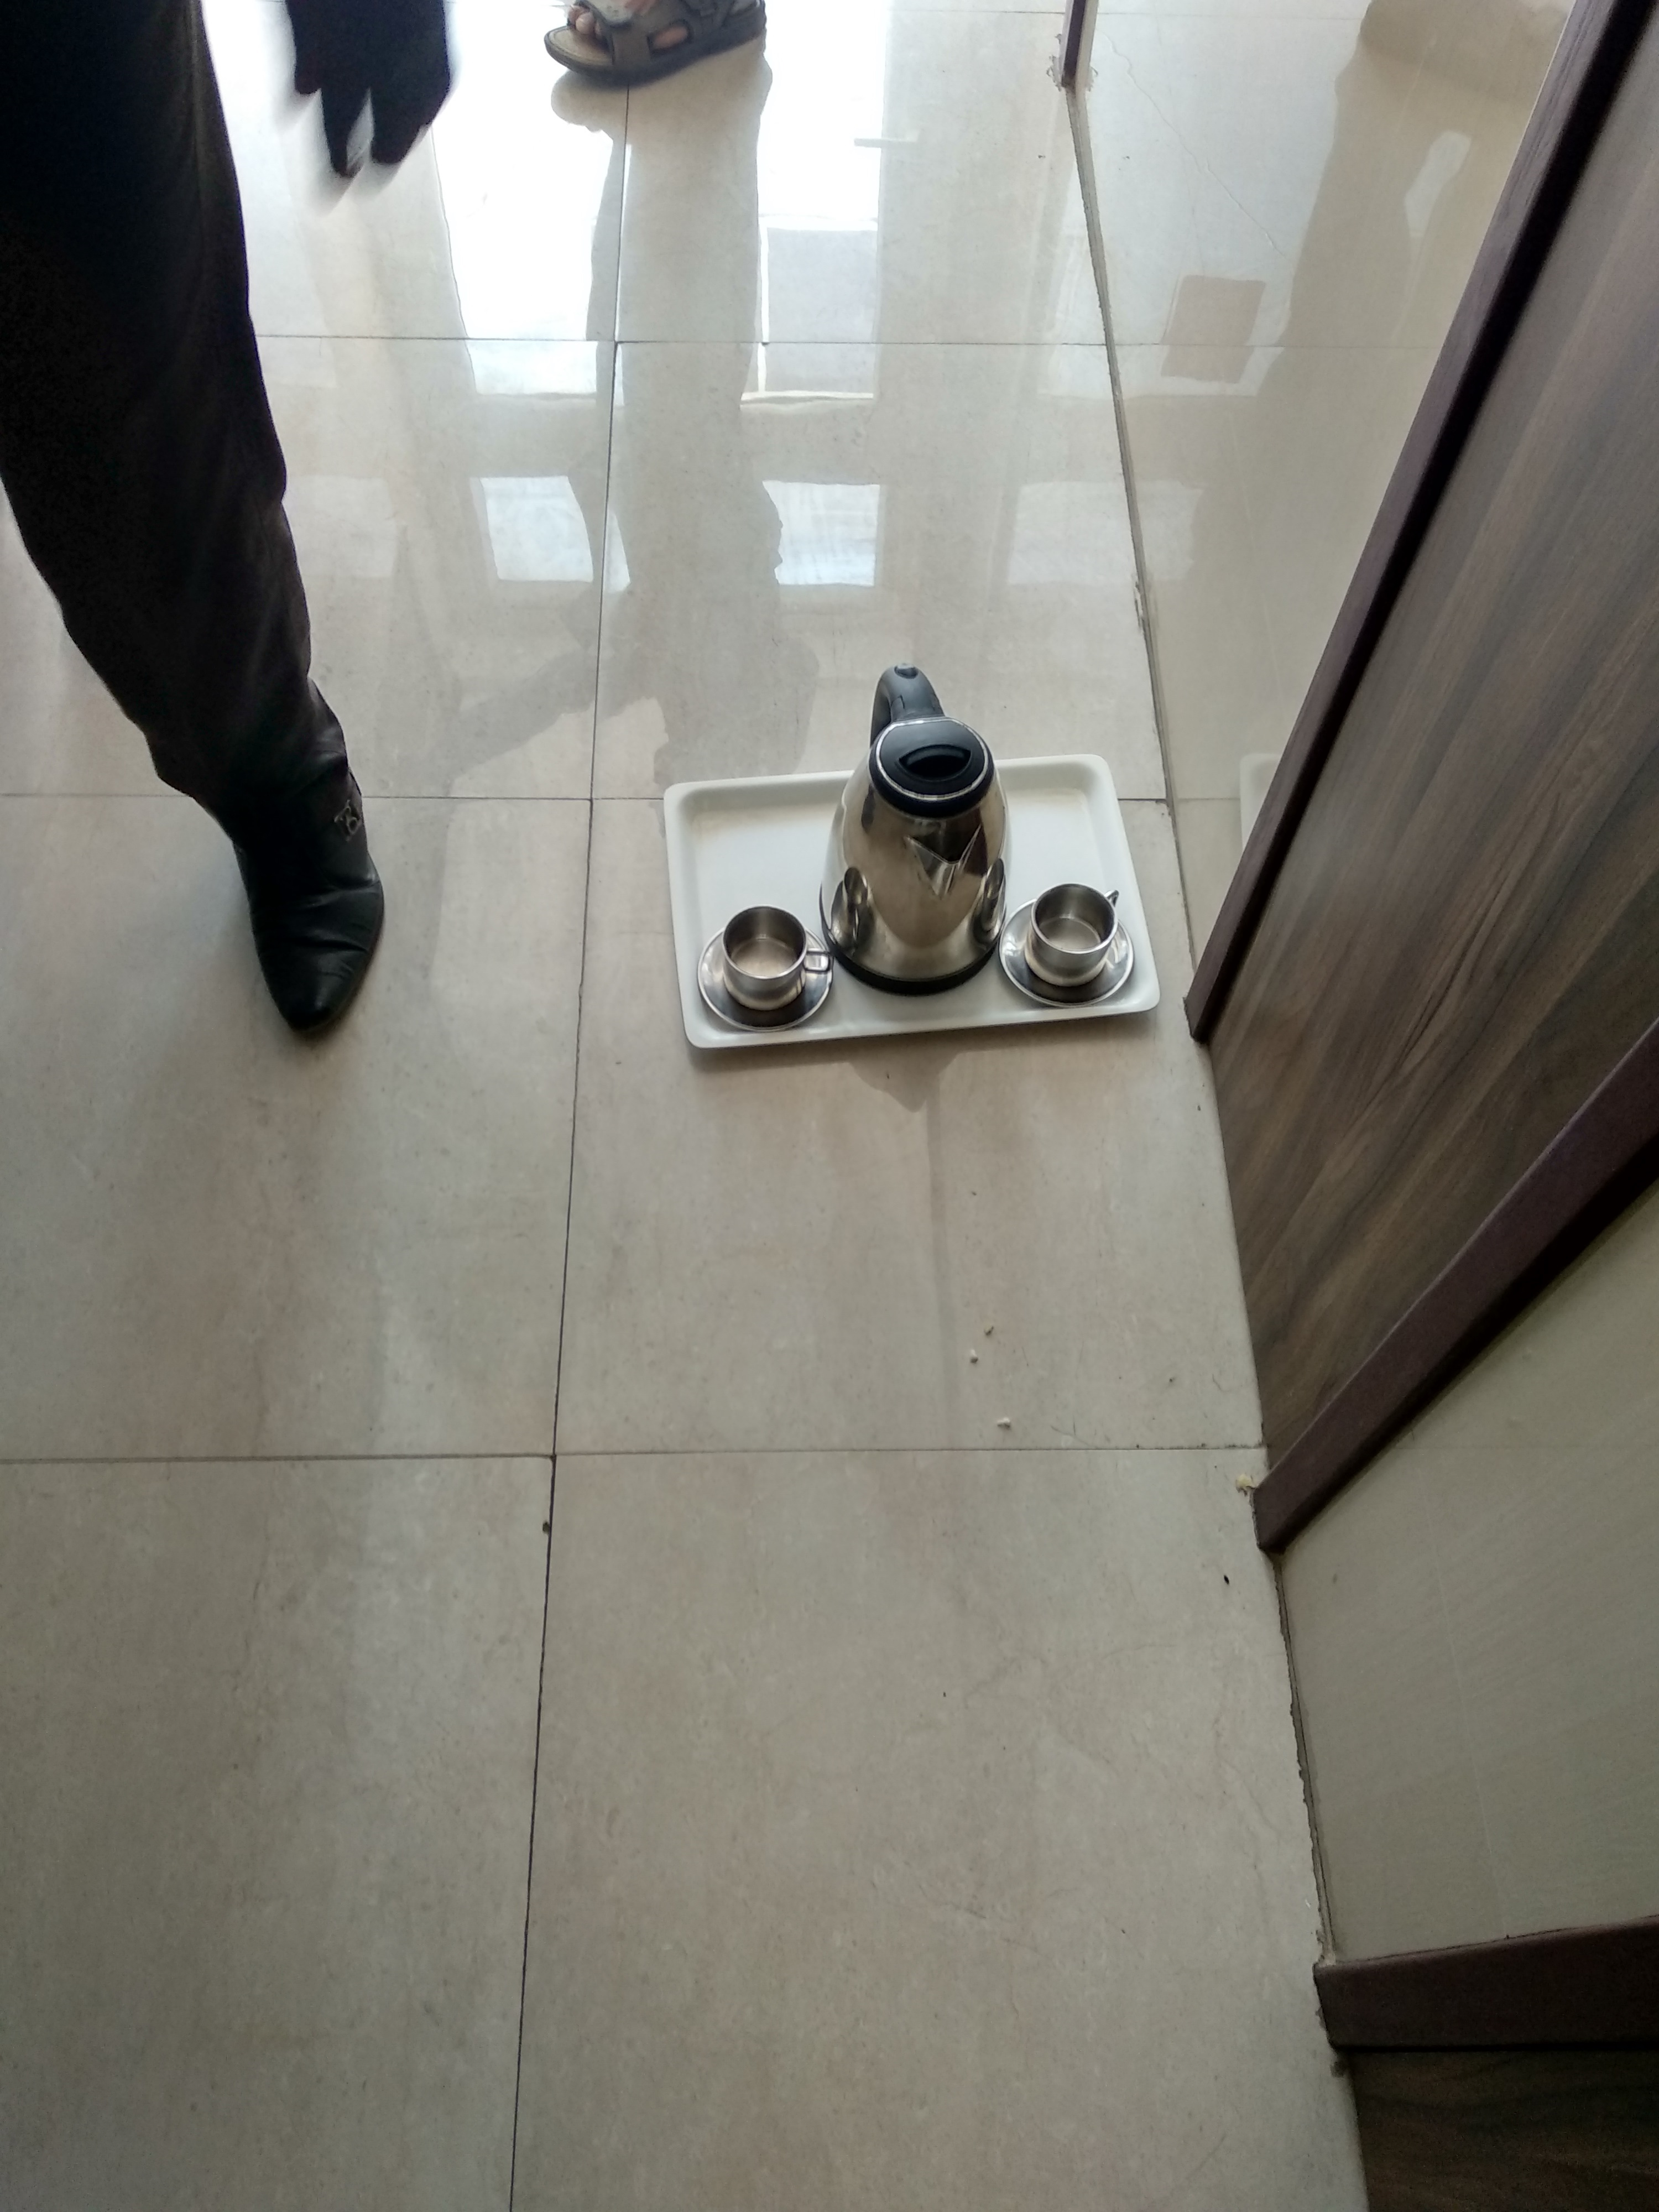CUP: (699, 906, 836, 1026), (1009, 876, 1134, 998)
JUG: (831, 667, 1006, 996)
